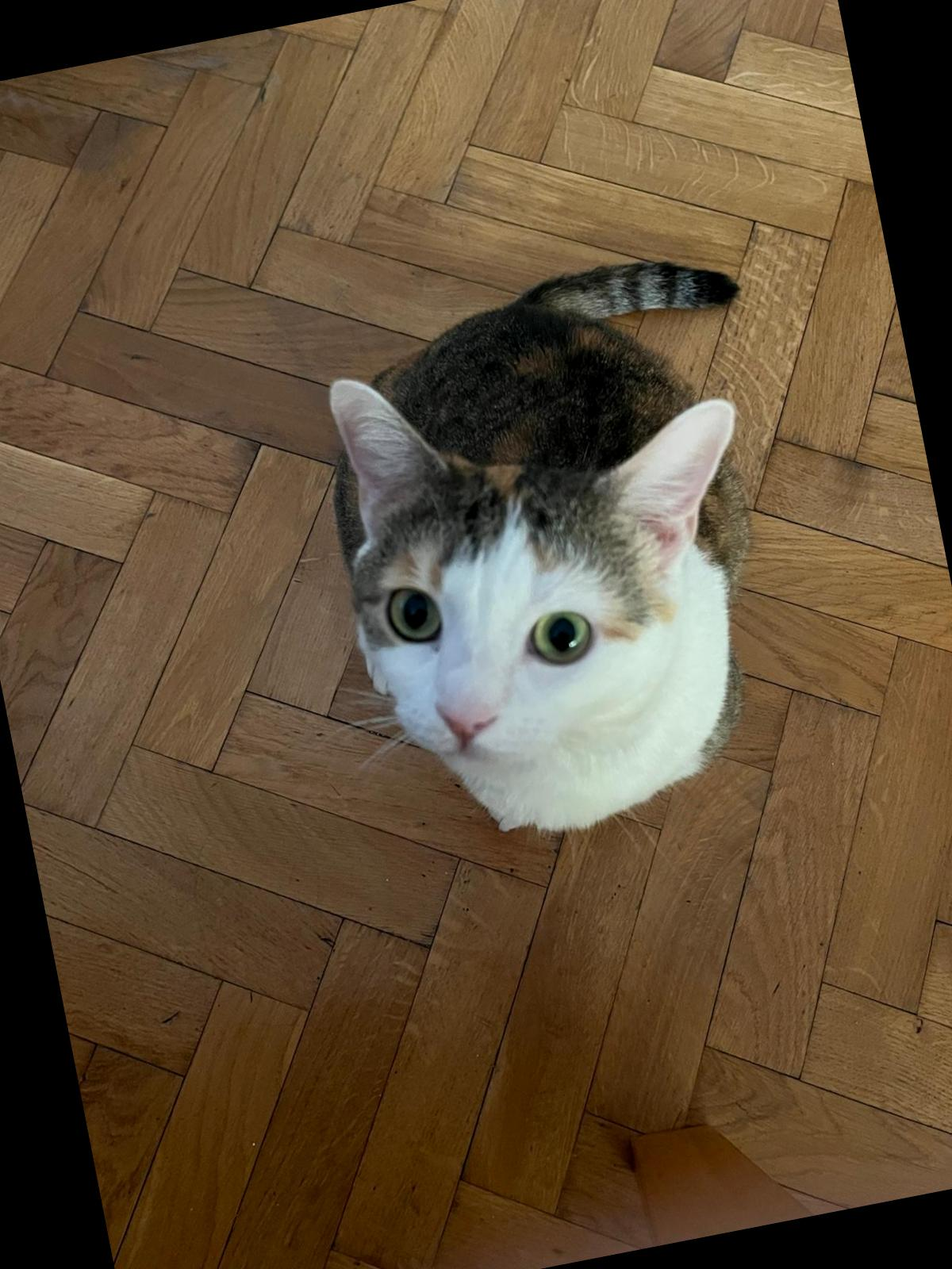macka: (292, 234, 838, 863)
